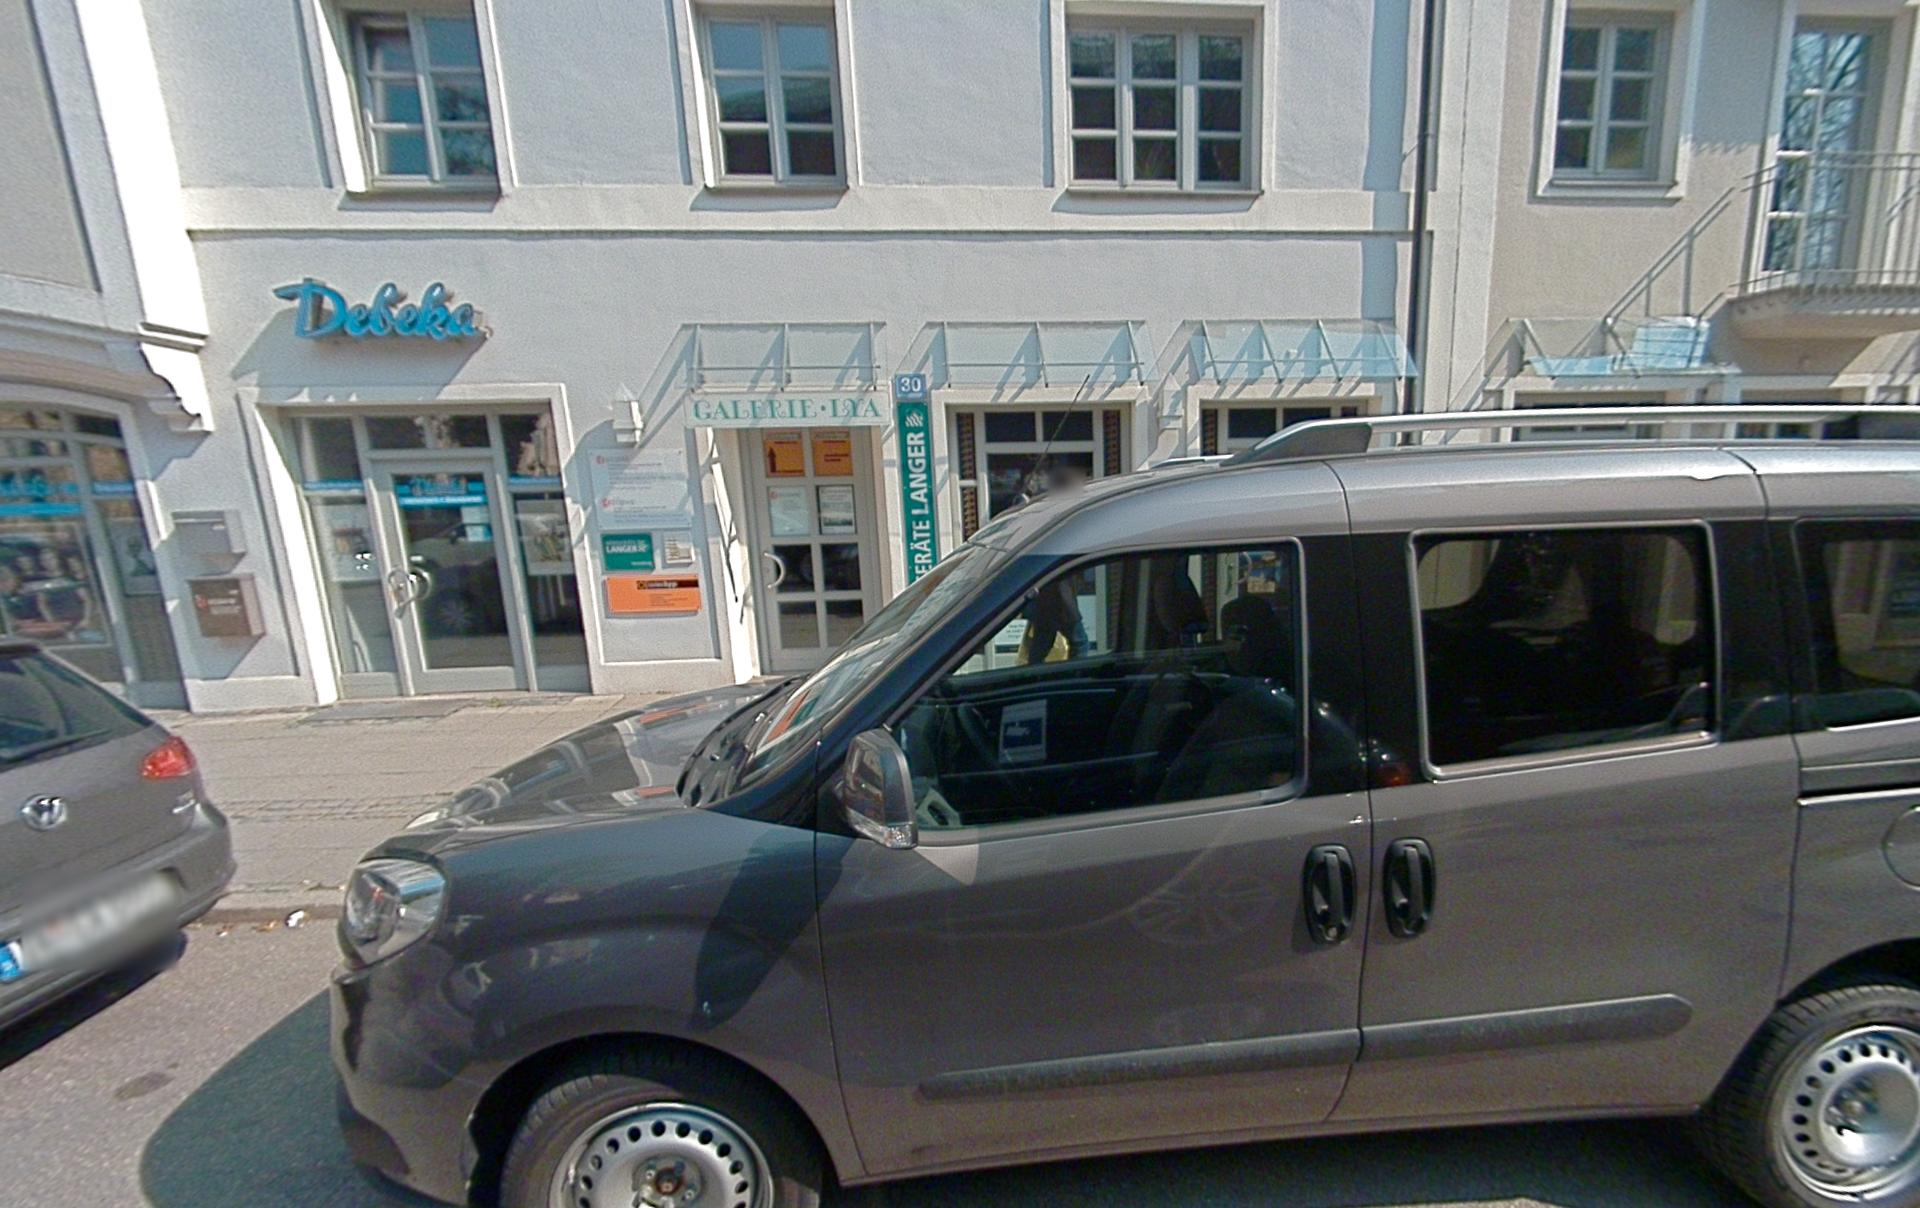car: (331, 422, 1919, 1205)
